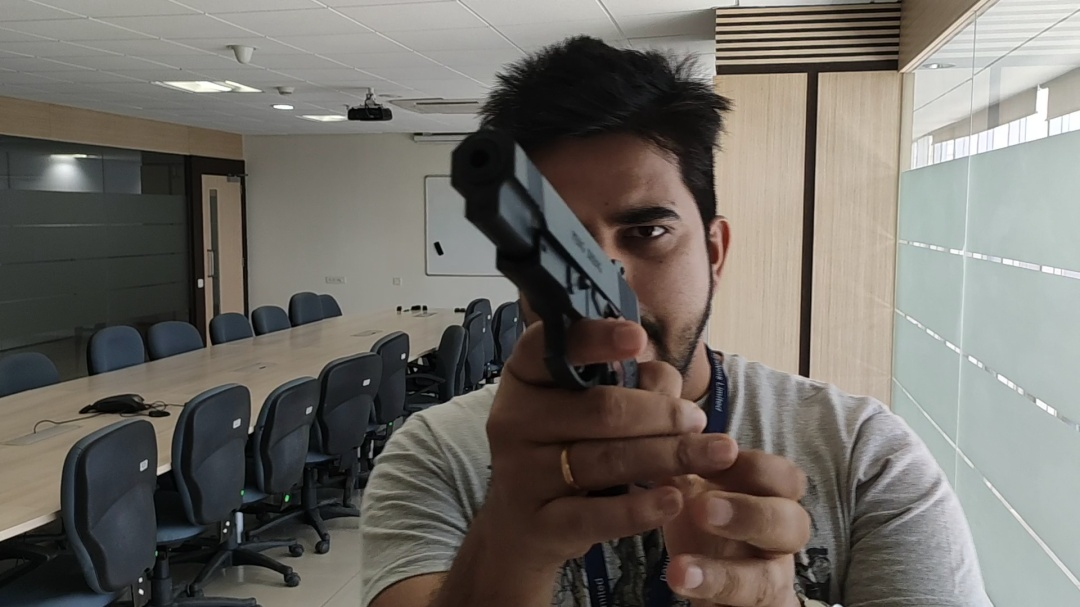gun: (454, 126, 643, 395)
